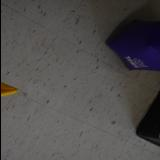cone: (0, 82, 18, 96)
cube: (106, 19, 160, 72)
